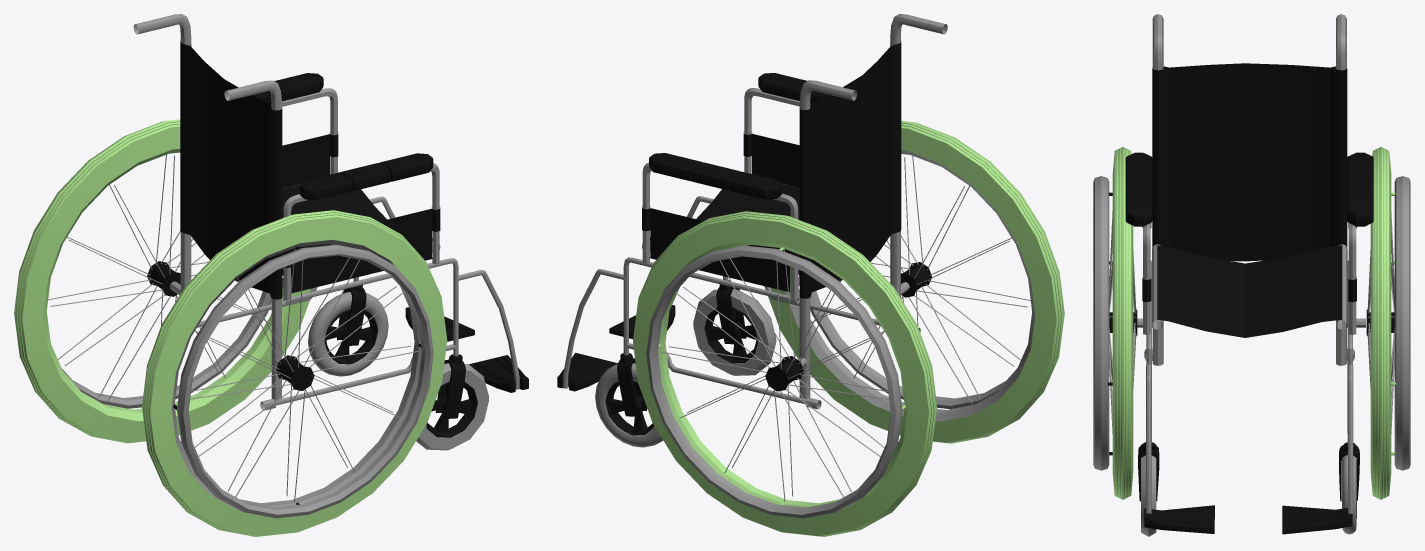
The model's file is Wheelchair.FBX.
3 views of the same model, side by side, from view 1: azimuth 30°, elevation 25°; view 2: azimuth 150°, elevation 25°; view 3: azimuth 270°, elevation 25° (orthographic).
Parts seen in each view (by area): view 1: Torus002, Object002, Object001; view 2: Torus002, Object001, Object002; view 3: Torus002, Object001, Object002.
Part boxes in pixels (<box>): Torus002: <box>14,14,528,536</box>; Object002: <box>308,285,388,376</box>; Object001: <box>416,354,488,450</box>; Torus002: <box>557,14,1064,536</box>; Object001: <box>693,280,776,375</box>; Object002: <box>595,353,663,447</box>; Torus002: <box>1093,14,1410,534</box>; Object001: <box>1138,442,1159,536</box>; Object002: <box>1339,442,1359,534</box>.
Bounding box in the file's own units: 1.09 × 0.719 × 1.11.
